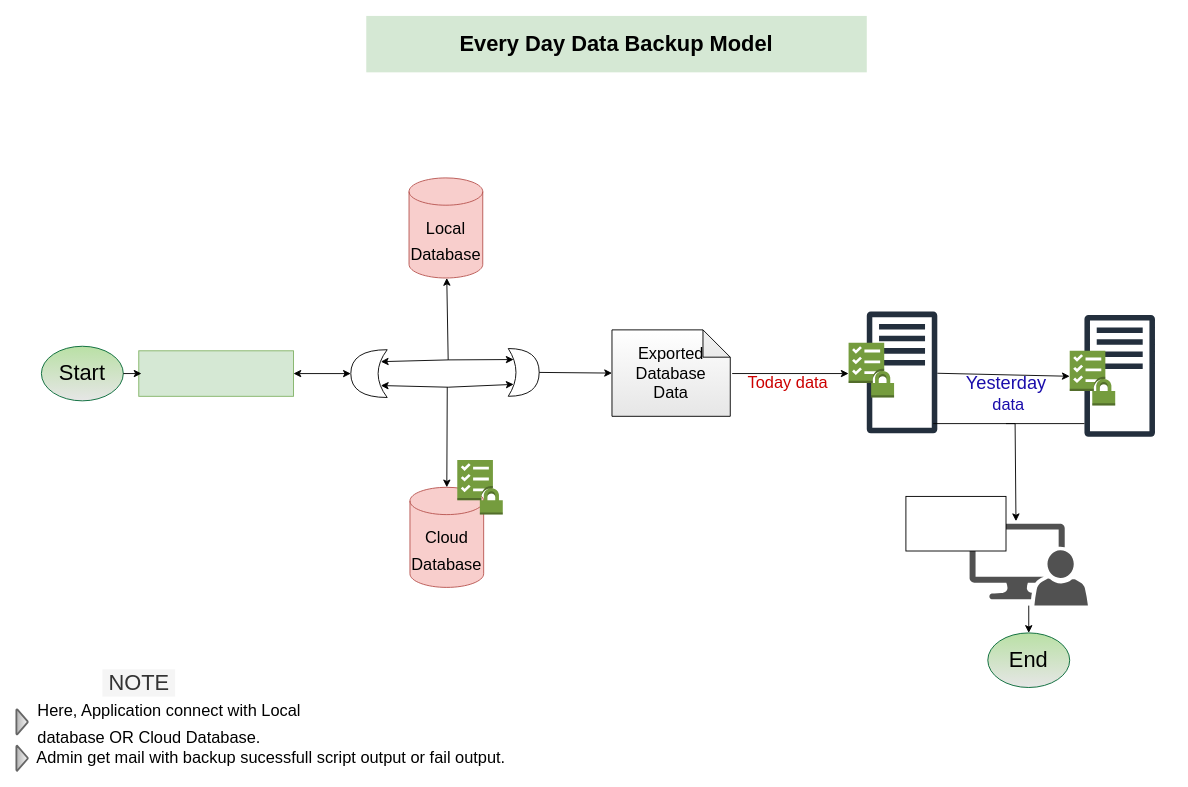
This 1188x787 diagram has some shape labels left out. The shapes that lost their labels are listed below. From the top down, each one's box as (x1, y1, x2, y2) in pixels, then its label:
(138, 350, 293, 396): Application
(866, 311, 937, 433): Backup Server
(1084, 314, 1155, 437): Helper Server
(905, 495, 1006, 551): Success/Fail Mail
